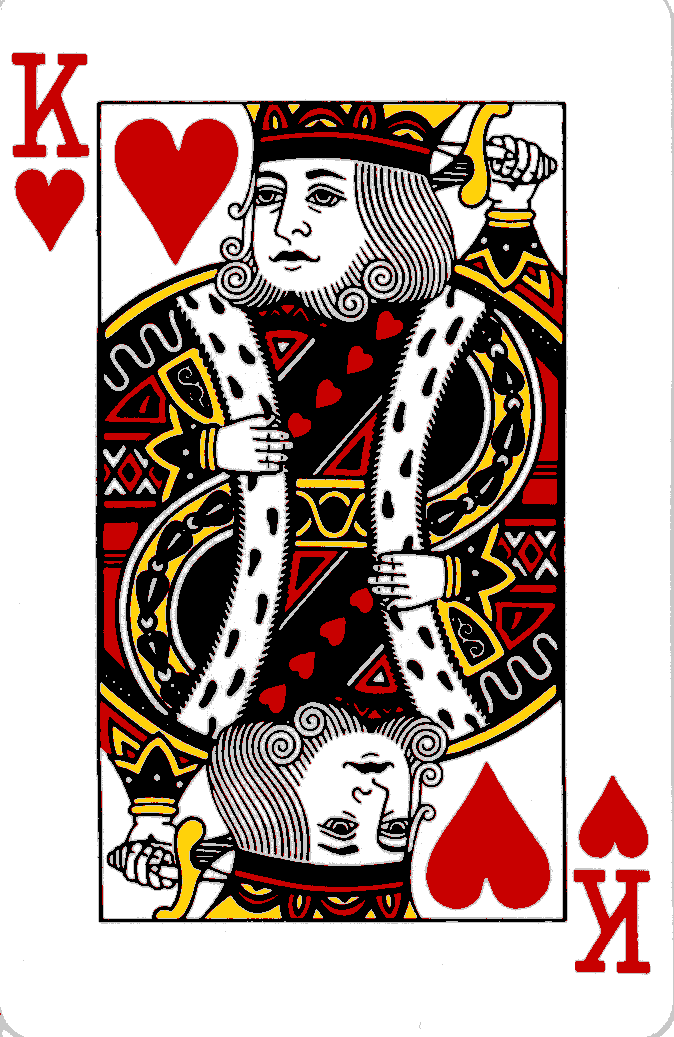king of hearts: (5, 20, 671, 1006)
